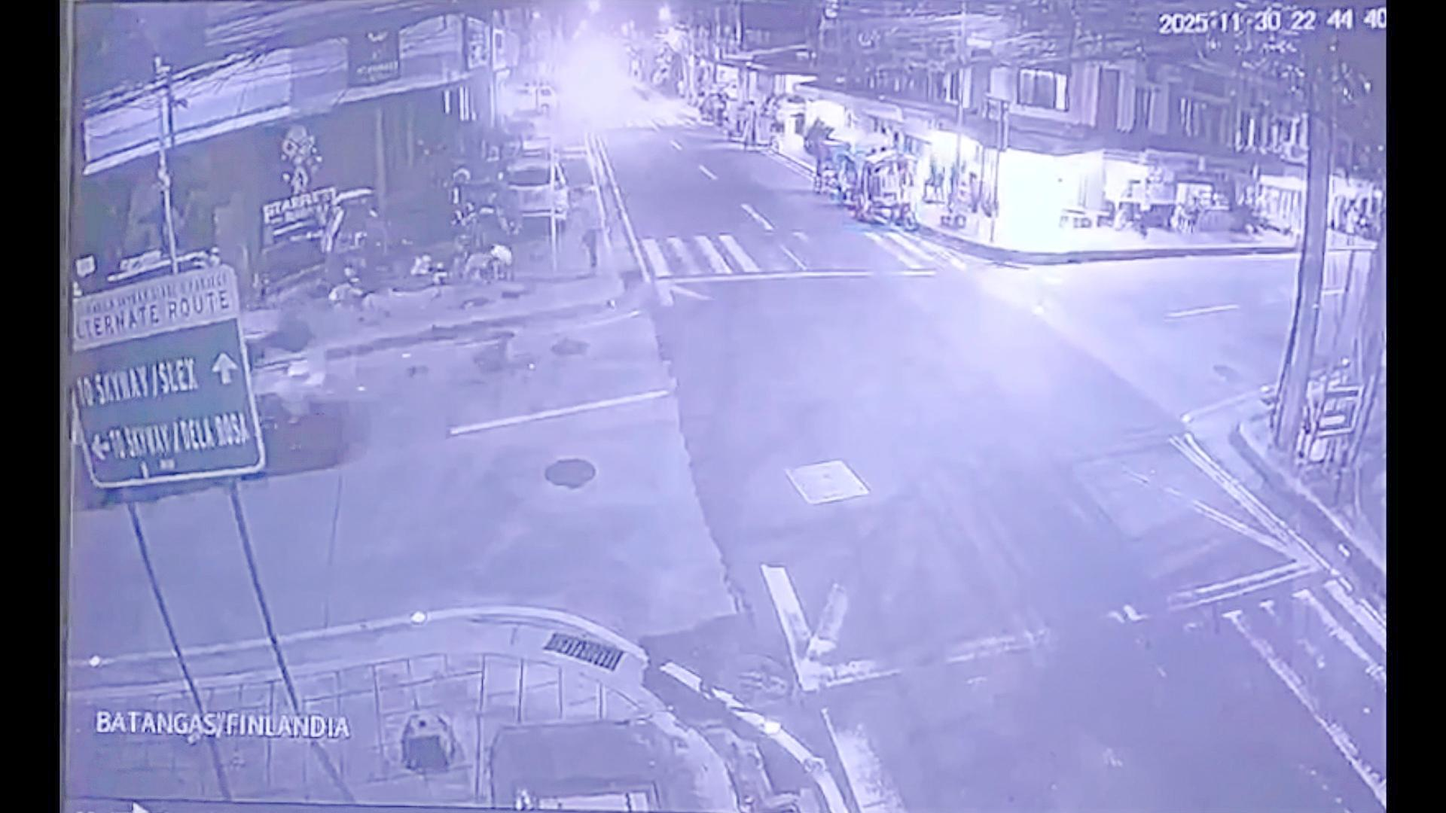Car: (228, 299, 330, 446)
